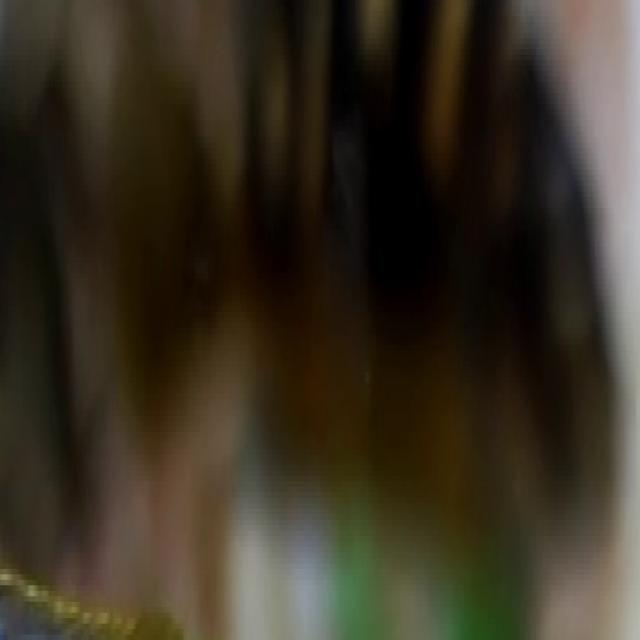fish: (1, 5, 640, 640)
